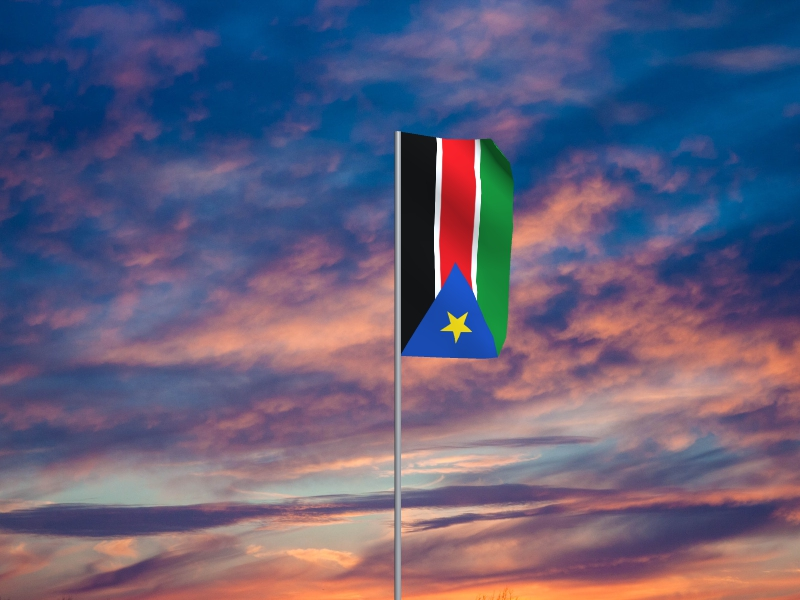ss: (401, 132, 516, 360)
